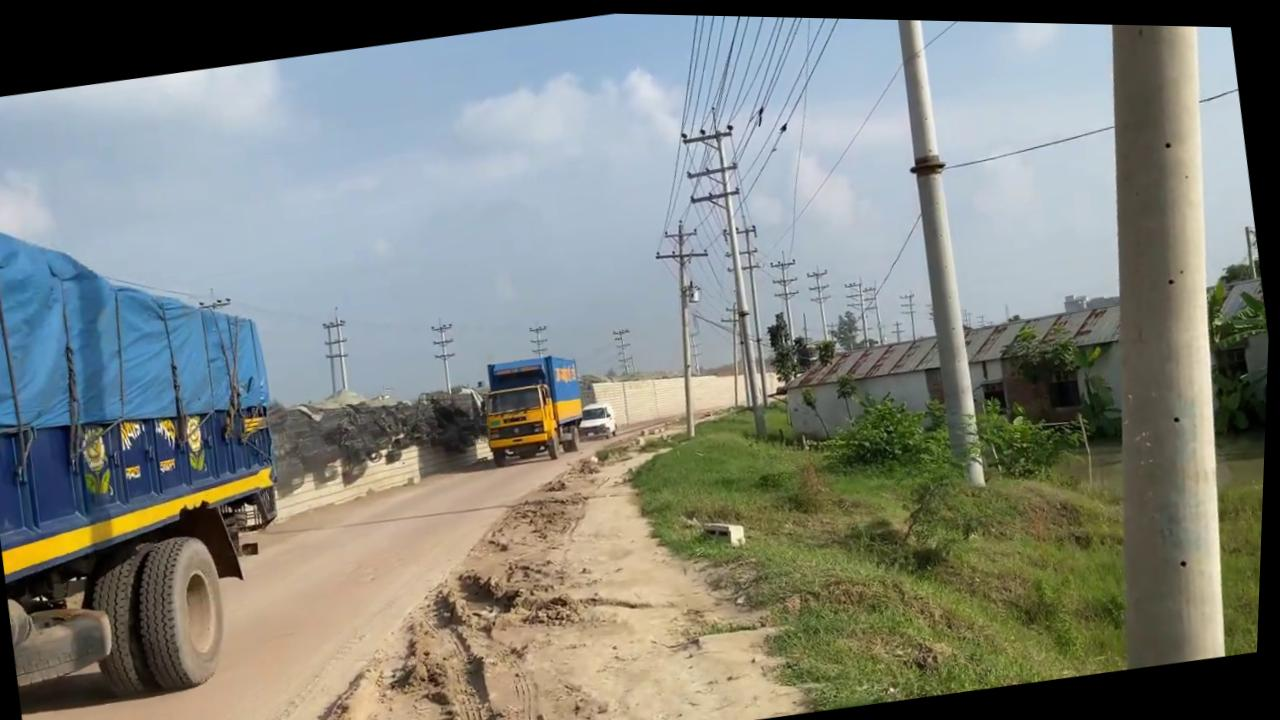Car: (577, 396, 622, 439)
Fence: (589, 349, 786, 431)
Pole: (1018, 18, 1280, 665), (872, 15, 1004, 488)
Rickshaw: (376, 384, 824, 720)
Tree: (0, 180, 323, 717), (477, 346, 594, 467), (417, 380, 495, 456), (579, 372, 600, 404)
